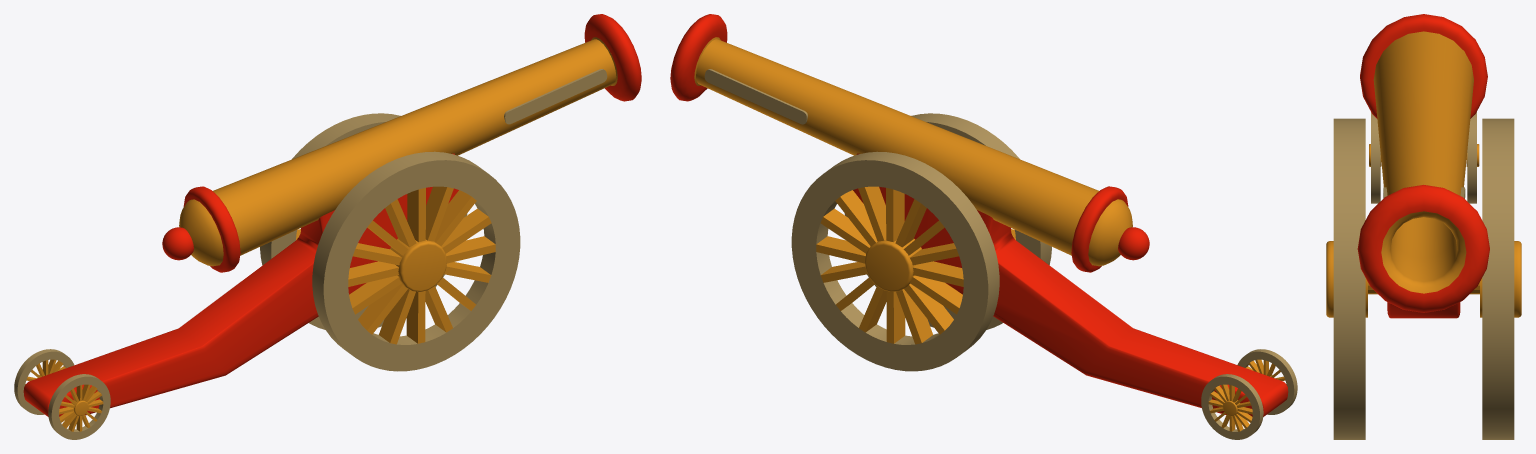
3 renders of one model, left to right at view 1: azimuth 30°, elevation 25°; view 2: azimuth 150°, elevation 25°; view 3: azimuth 270°, elevation 25°, orthographic. The views are drawn at different scales.
Parts seen in each view (by area): view 1: Line021, Box023, Tube036, Group110, Group114, Tube037, Cylinder079, Tube038, Box024, Group112, Tube039, Sphere076; view 2: Line021, Box023, Tube037, Group111, Group114, Tube036, Cylinder080, Tube039, Box025, Group113, Tube038, Sphere076; view 3: Line021, Group114, Tube037, Tube036, Tube039, Tube038, Cylinder080, Cylinder079, Box023.
Boxes of the visible parts, x1=… form: Line021: x1=179, y1=37, x2=617, y2=266; Box023: x1=23, y1=153, x2=458, y2=416; Tube036: x1=312, y1=151, x2=520, y2=371; Group110: x1=348, y1=186, x2=495, y2=344; Group114: x1=183, y1=14, x2=641, y2=272; Tube037: x1=260, y1=113, x2=467, y2=329; Cylinder079: x1=390, y1=238, x2=446, y2=291; Tube038: x1=48, y1=374, x2=110, y2=439; Box024: x1=504, y1=69, x2=607, y2=124; Group112: x1=59, y1=384, x2=103, y2=431; Tube039: x1=14, y1=349, x2=74, y2=414; Sphere076: x1=162, y1=227, x2=193, y2=260; Line021: x1=694, y1=37, x2=1132, y2=266; Box023: x1=853, y1=153, x2=1288, y2=416; Tube037: x1=791, y1=151, x2=999, y2=371; Group111: x1=816, y1=186, x2=963, y2=344; Group114: x1=670, y1=14, x2=1128, y2=272; Tube036: x1=844, y1=113, x2=1051, y2=329; Cylinder080: x1=865, y1=239, x2=921, y2=291; Tube039: x1=1201, y1=374, x2=1263, y2=439; Box025: x1=704, y1=69, x2=807, y2=124; Group113: x1=1208, y1=384, x2=1252, y2=431; Tube038: x1=1237, y1=349, x2=1297, y2=414; Sphere076: x1=1118, y1=227, x2=1149, y2=260; Line021: x1=1373, y1=31, x2=1473, y2=293; Group114: x1=1357, y1=14, x2=1489, y2=312; Tube037: x1=1482, y1=118, x2=1514, y2=439; Tube036: x1=1333, y1=118, x2=1365, y2=439; Tube039: x1=1467, y1=112, x2=1476, y2=203; Tube038: x1=1371, y1=112, x2=1380, y2=203; Cylinder080: x1=1470, y1=241, x2=1521, y2=317; Cylinder079: x1=1326, y1=241, x2=1377, y2=317; Box023: x1=1387, y1=302, x2=1460, y2=318.
Bounding box in the file's own units: 72.48 × 32.08 × 14.6.
